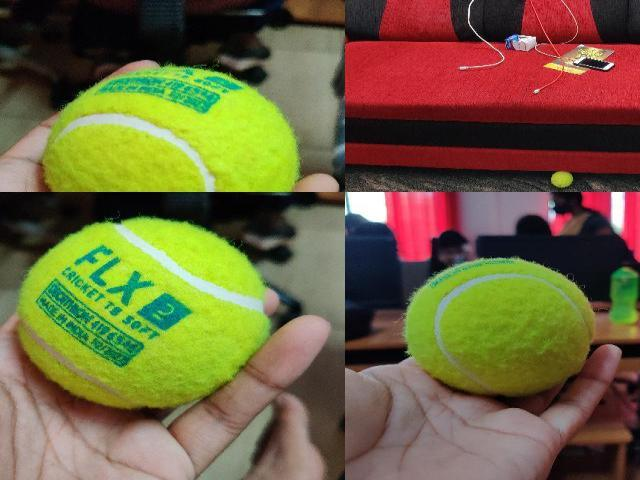tennis-ball: (18, 218, 270, 408), (43, 67, 298, 191), (404, 257, 594, 397), (551, 171, 573, 187)
